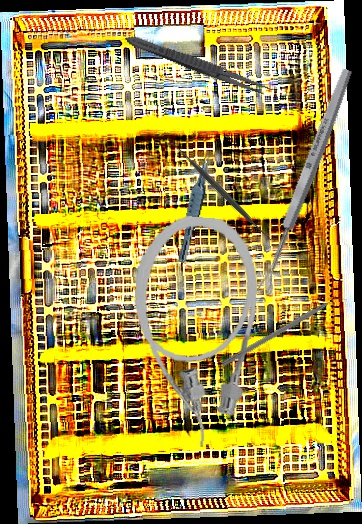Cannula: (122, 212, 263, 451)
Chopper: (221, 291, 349, 374)
Dressing Forceps: (122, 31, 275, 99)
Spatula Surgical: (165, 135, 280, 249)
Surgical Spoon: (254, 67, 356, 295)
Tissue Forceps: (177, 148, 214, 265)
